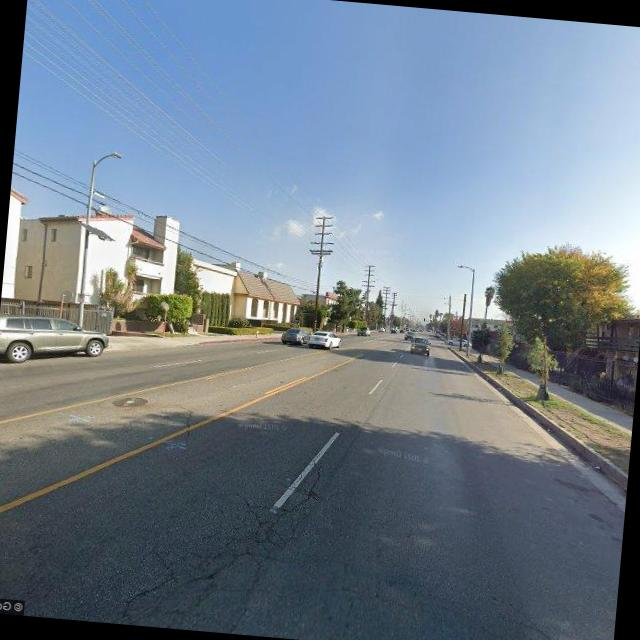crack: (141, 431, 331, 623)
